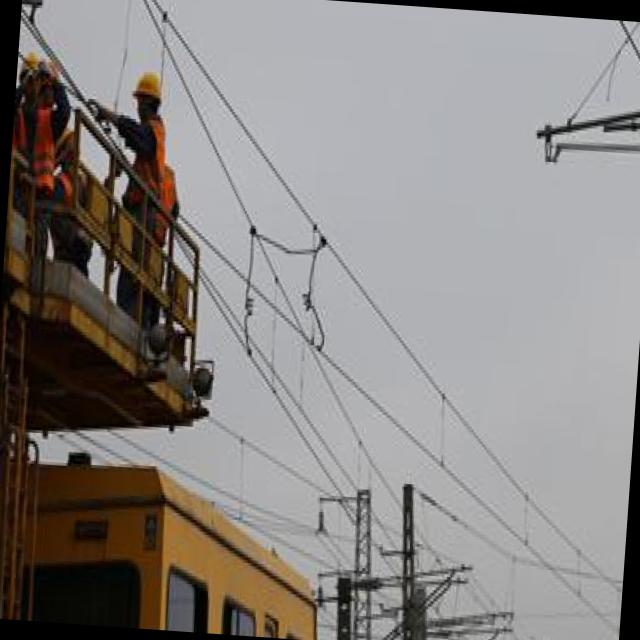helmet: (128, 62, 168, 129)
